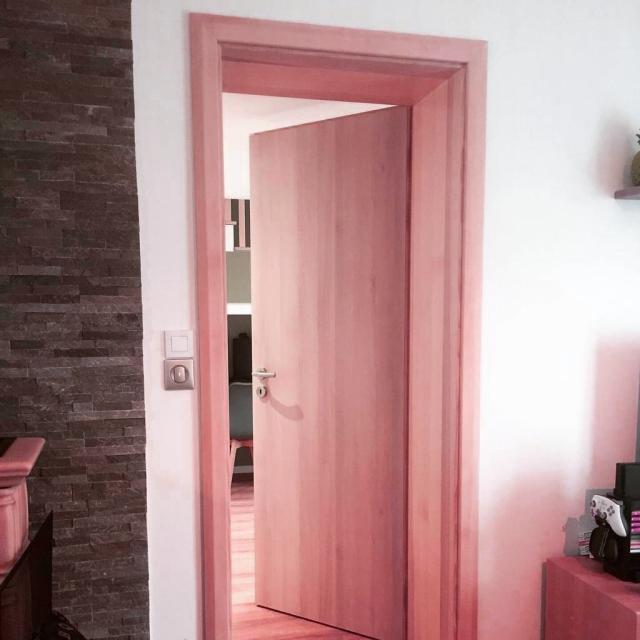door: (184, 6, 496, 638)
